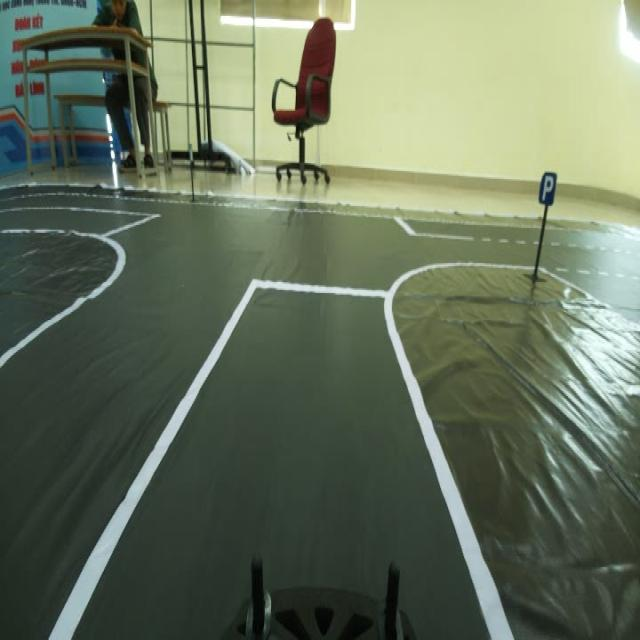parking: (534, 168, 562, 211)
